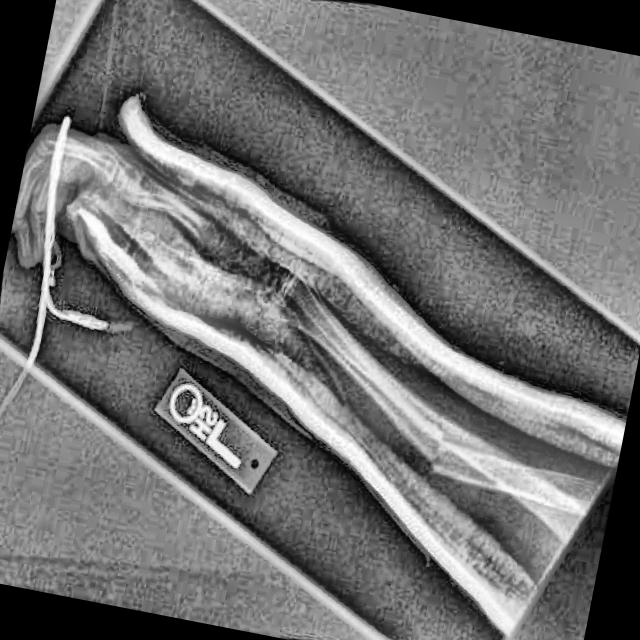forearm fracture: (394, 390, 511, 514)
